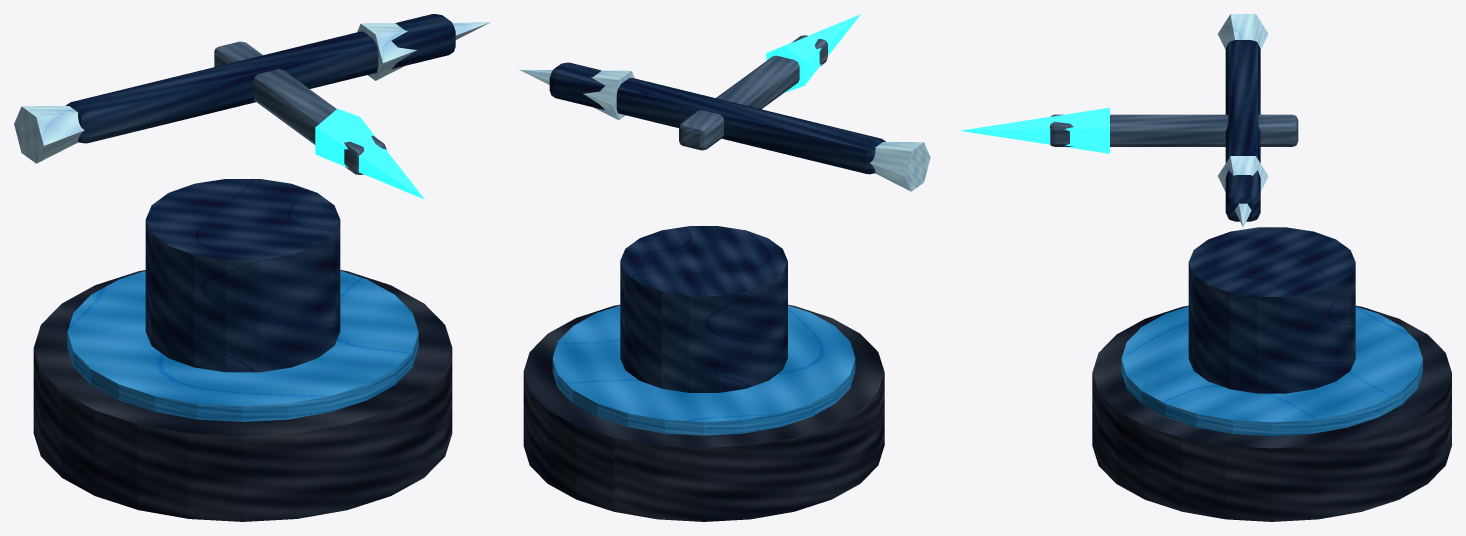
File: 05_GlacierBallista.glb
3 views of the same model, side by side, from view 1: azimuth 30°, elevation 25°; view 2: azimuth 150°, elevation 25°; view 3: azimuth 270°, elevation 25° (orthographic). The views are drawn at different scales.
Parts seen in each view (by area): view 1: Stand_Base.004, Stand_Pedestal.004, Stand_IceRing.004, Head_BallistaBeam, Head_BallistaRail, Head_GlacierBolt, Head_BallistaArm, Head_BallistaArm.001; view 2: Stand_Base.004, Stand_Pedestal.004, Stand_IceRing.004, Head_BallistaBeam, Head_BallistaRail, Head_BallistaArm, Head_GlacierBolt, Head_BallistaArm.001; view 3: Stand_Base.004, Stand_Pedestal.004, Stand_IceRing.004, Head_BallistaRail, Head_BallistaBeam, Head_GlacierBolt, Head_BallistaArm, Head_BallistaArm.001.
Part boxes in pixels (x1,y1,x2,y2): Stand_Base.004: [33, 270, 452, 521]; Stand_Pedestal.004: [145, 179, 340, 372]; Stand_IceRing.004: [67, 271, 418, 421]; Head_BallistaBeam: [66, 14, 455, 143]; Head_BallistaRail: [214, 41, 386, 174]; Head_GlacierBolt: [315, 108, 424, 199]; Head_BallistaArm: [14, 106, 84, 163]; Head_BallistaArm.001: [357, 22, 490, 80]; Stand_Base.004: [523, 304, 884, 521]; Stand_Pedestal.004: [620, 226, 787, 392]; Stand_IceRing.004: [552, 305, 855, 435]; Head_BallistaBeam: [549, 62, 885, 174]; Head_BallistaRail: [679, 35, 827, 150]; Head_BallistaArm: [870, 142, 930, 191]; Head_GlacierBolt: [766, 14, 860, 92]; Head_BallistaArm.001: [519, 69, 634, 120]; Stand_Base.004: [1092, 305, 1451, 521]; Stand_Pedestal.004: [1188, 227, 1355, 393]; Stand_IceRing.004: [1121, 306, 1422, 436]; Head_BallistaRail: [1050, 114, 1298, 146]; Head_BallistaBeam: [1225, 40, 1260, 221]; Head_GlacierBolt: [959, 107, 1109, 153]; Head_BallistaArm: [1218, 14, 1268, 49]; Head_BallistaArm.001: [1218, 156, 1268, 227].
Size of the model in its own units: 3.95 by 3.22 by 4.25.
Materials: 6 (5 with a texture image).
